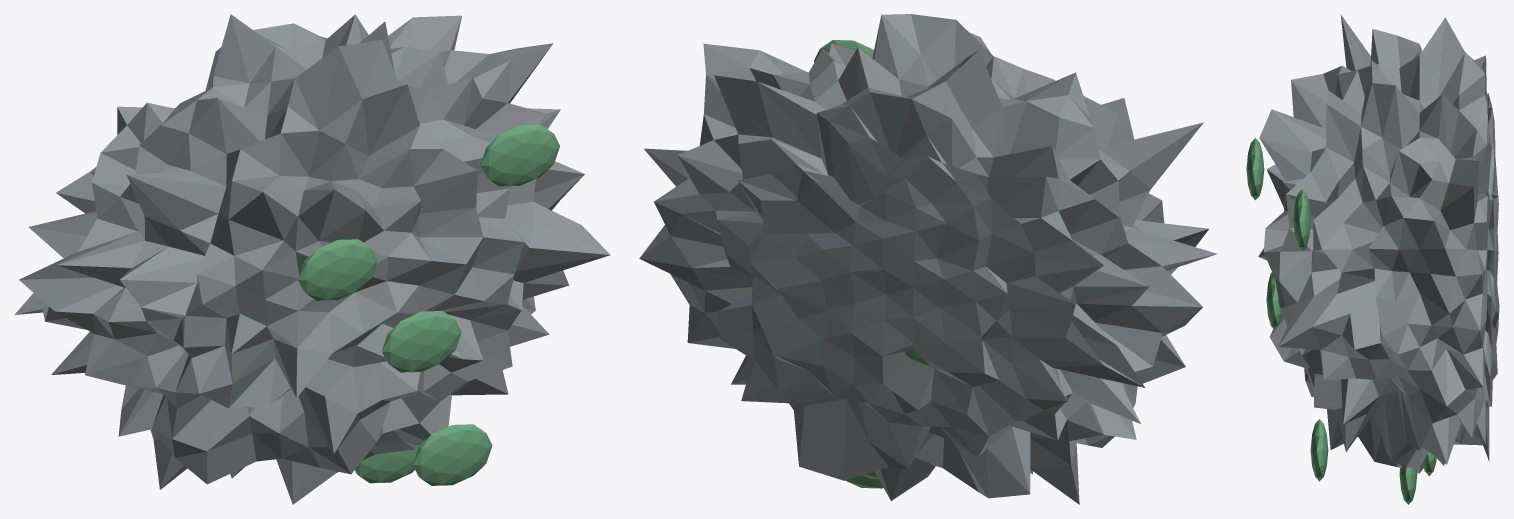
Rendered from Akariz_Rock_Lichen_Stone.glb.
3 views of the same model, side by side, from view 1: azimuth 30°, elevation 25°; view 2: azimuth 150°, elevation 25°; view 3: azimuth 270°, elevation 25° (orthographic). The views are drawn at different scales.
Parts seen in each view (by area): view 1: Akariz_Rock_Lichen_Stone, Akariz_Rock_Lichen_Stone_moss0, Akariz_Rock_Lichen_Stone_moss1, Akariz_Rock_Lichen_Stone_moss8, Akariz_Rock_Lichen_Stone_moss6, Akariz_Rock_Lichen_Stone_moss4; view 2: Akariz_Rock_Lichen_Stone; view 3: Akariz_Rock_Lichen_Stone, Akariz_Rock_Lichen_Stone_moss6, Akariz_Rock_Lichen_Stone_moss0, Akariz_Rock_Lichen_Stone_moss8, Akariz_Rock_Lichen_Stone_moss1, Akariz_Rock_Lichen_Stone_moss4.
Boxes of the visible parts, bbox=[...] form: Akariz_Rock_Lichen_Stone: bbox=[14, 14, 610, 504]; Akariz_Rock_Lichen_Stone_moss0: bbox=[297, 239, 377, 300]; Akariz_Rock_Lichen_Stone_moss1: bbox=[382, 311, 461, 372]; Akariz_Rock_Lichen_Stone_moss8: bbox=[480, 125, 559, 186]; Akariz_Rock_Lichen_Stone_moss6: bbox=[412, 424, 492, 485]; Akariz_Rock_Lichen_Stone_moss4: bbox=[355, 445, 419, 483]; Akariz_Rock_Lichen_Stone: bbox=[639, 14, 1216, 504]; Akariz_Rock_Lichen_Stone: bbox=[1258, 14, 1499, 473]; Akariz_Rock_Lichen_Stone_moss6: bbox=[1310, 419, 1328, 481]; Akariz_Rock_Lichen_Stone_moss0: bbox=[1246, 138, 1264, 200]; Akariz_Rock_Lichen_Stone_moss8: bbox=[1293, 189, 1310, 250]; Akariz_Rock_Lichen_Stone_moss1: bbox=[1266, 272, 1282, 328]; Akariz_Rock_Lichen_Stone_moss4: bbox=[1399, 466, 1417, 504].
Size of the model in its own units: 2.48 by 2.09 by 1.13.
